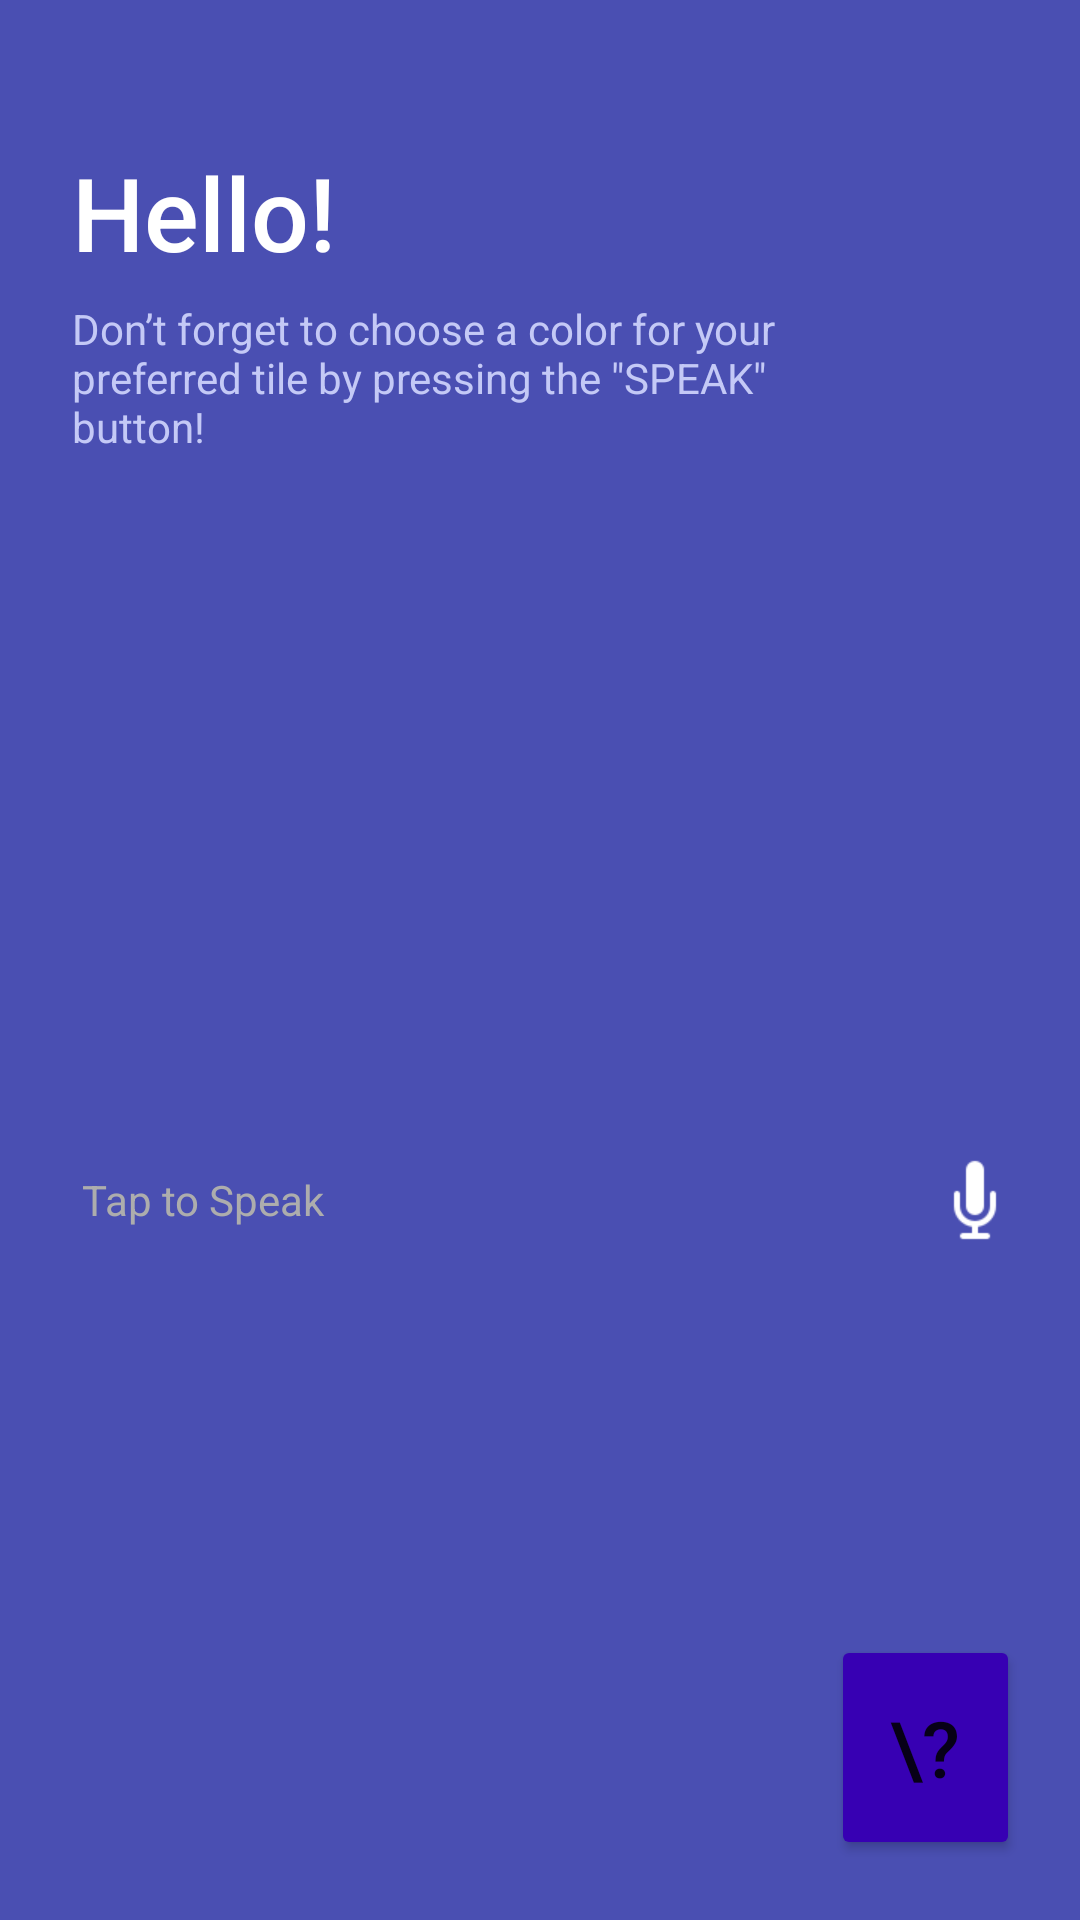

Where to tap for icons on this 1080 x 1920 app screen, as (x=x, y=y):
microphone: (x=975, y=1200)
